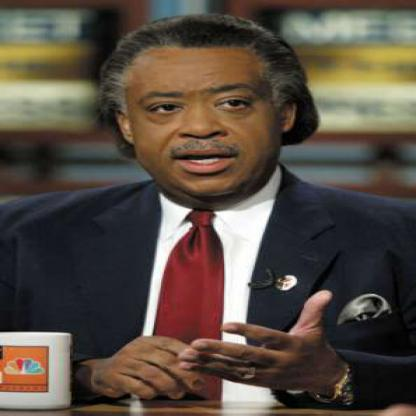face: (124, 32, 287, 200)
